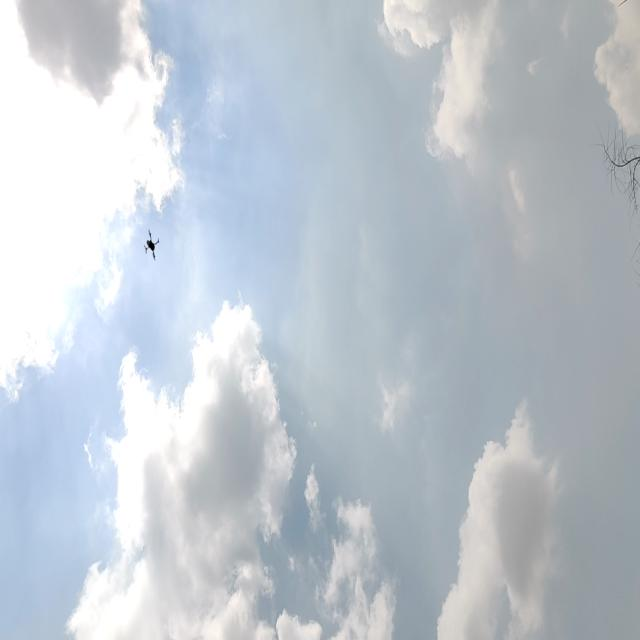drone: (137, 220, 165, 272)
